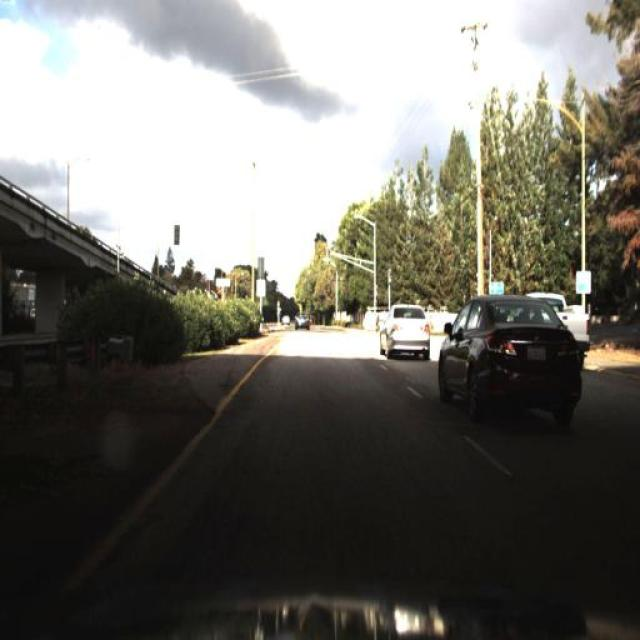car: (433, 306, 587, 446), (375, 302, 437, 358), (554, 291, 594, 355), (290, 307, 311, 332)
trafficLight-GreenLeft: (326, 240, 332, 266)
